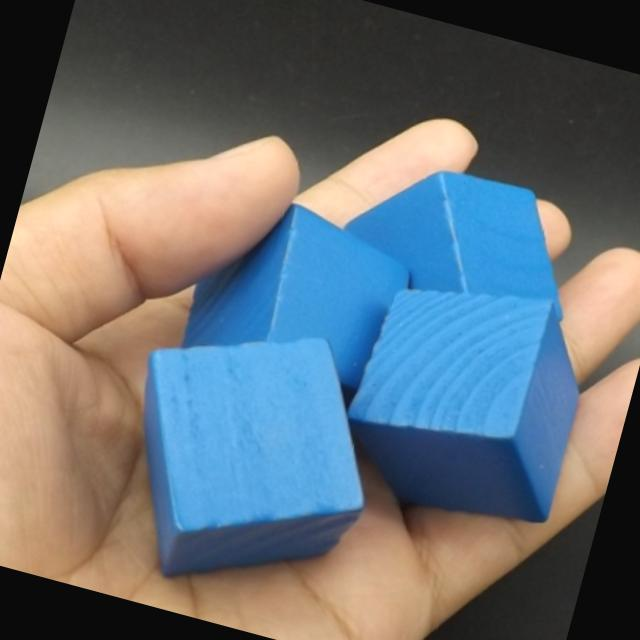bluecube: (348, 286, 583, 523), (140, 336, 364, 579), (181, 204, 409, 414), (341, 170, 564, 320)
